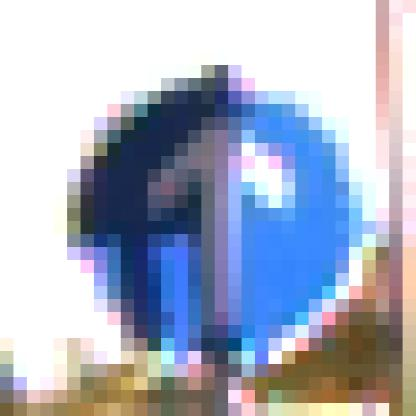AheadOnly: (68, 79, 350, 352)
